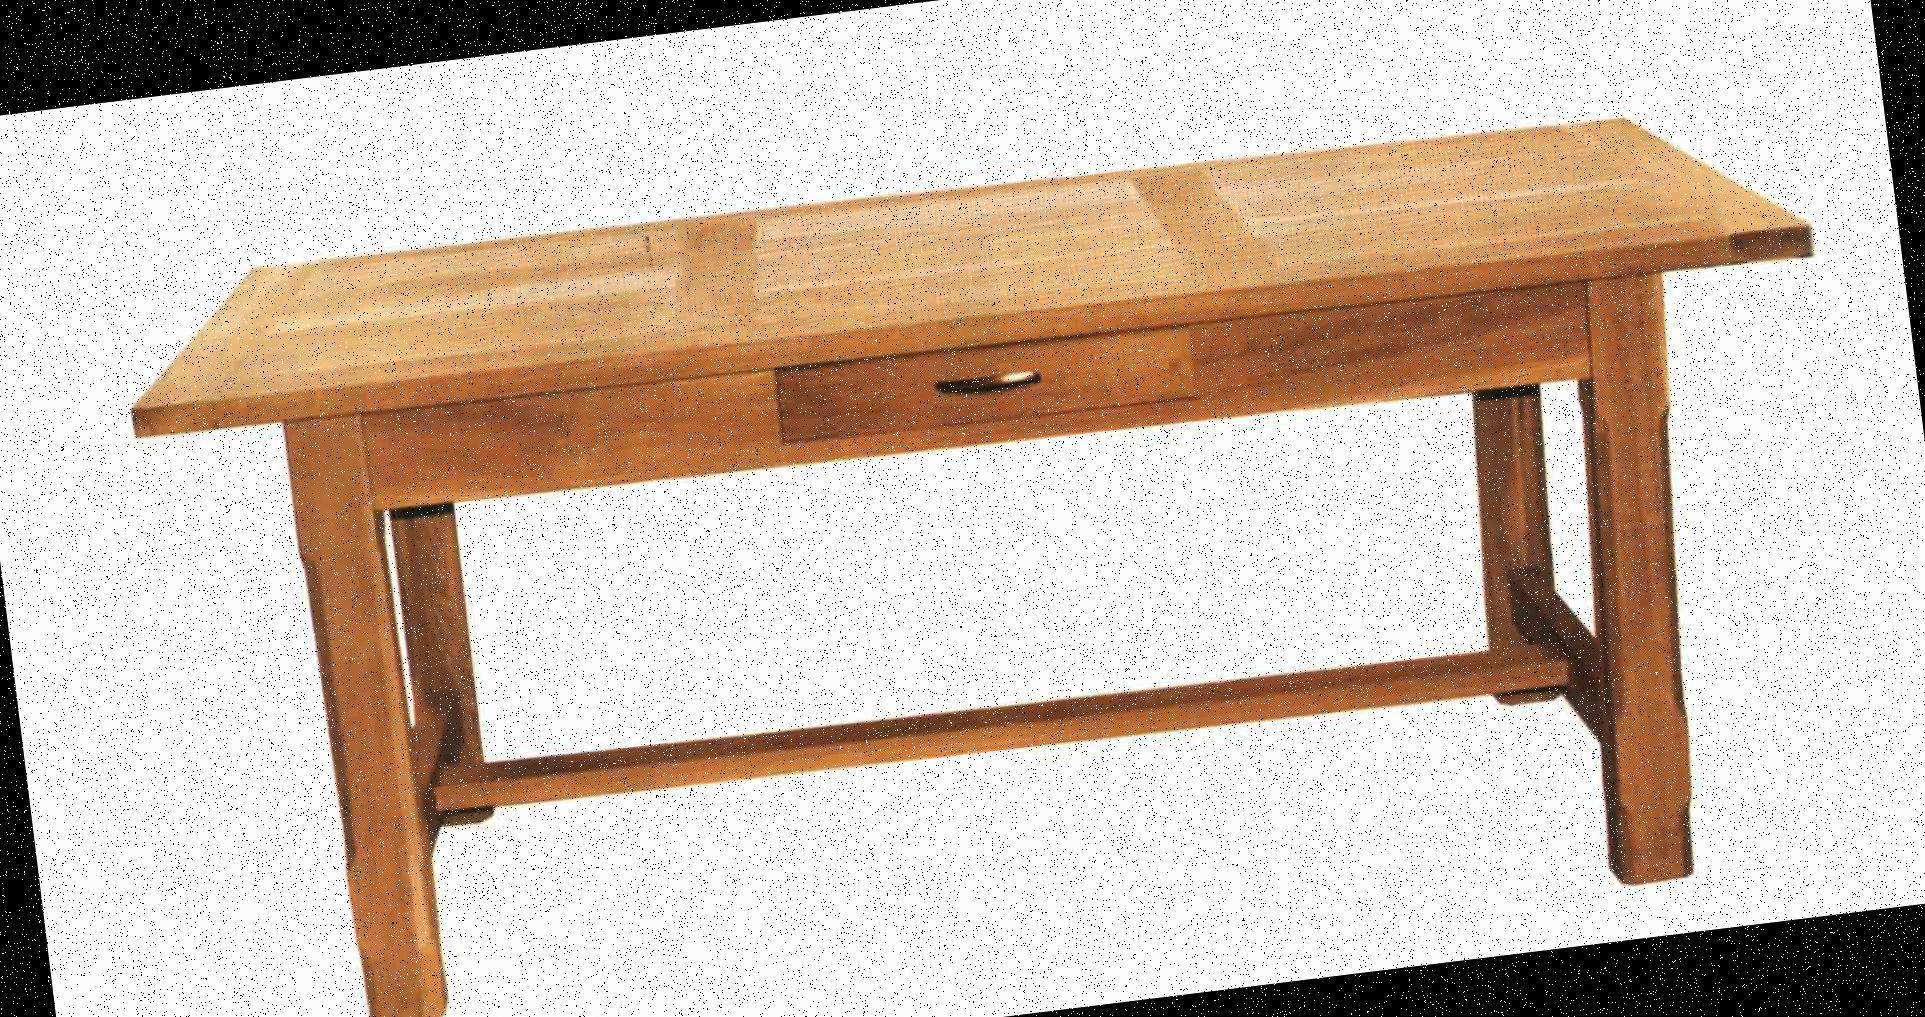Mesa: (118, 84, 1884, 1016)
